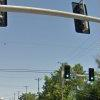Traffic light: (65, 0, 96, 38)
